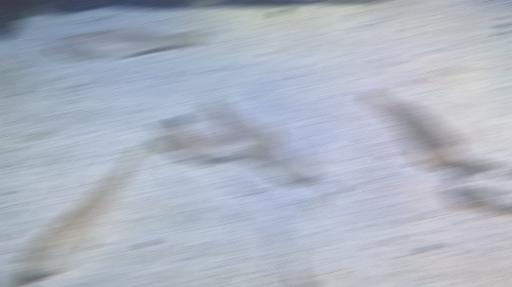Fish: (19, 143, 144, 276), (365, 89, 464, 168), (154, 117, 277, 159), (51, 30, 204, 60), (250, 136, 320, 181), (291, 259, 304, 286)
